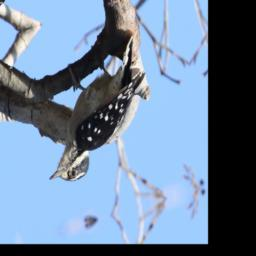Woodpecker: (30, 33, 160, 191)
